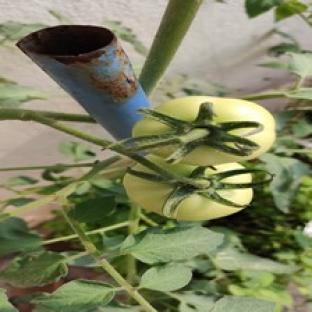Tomato: (155, 97, 275, 165), (168, 187, 253, 220)
